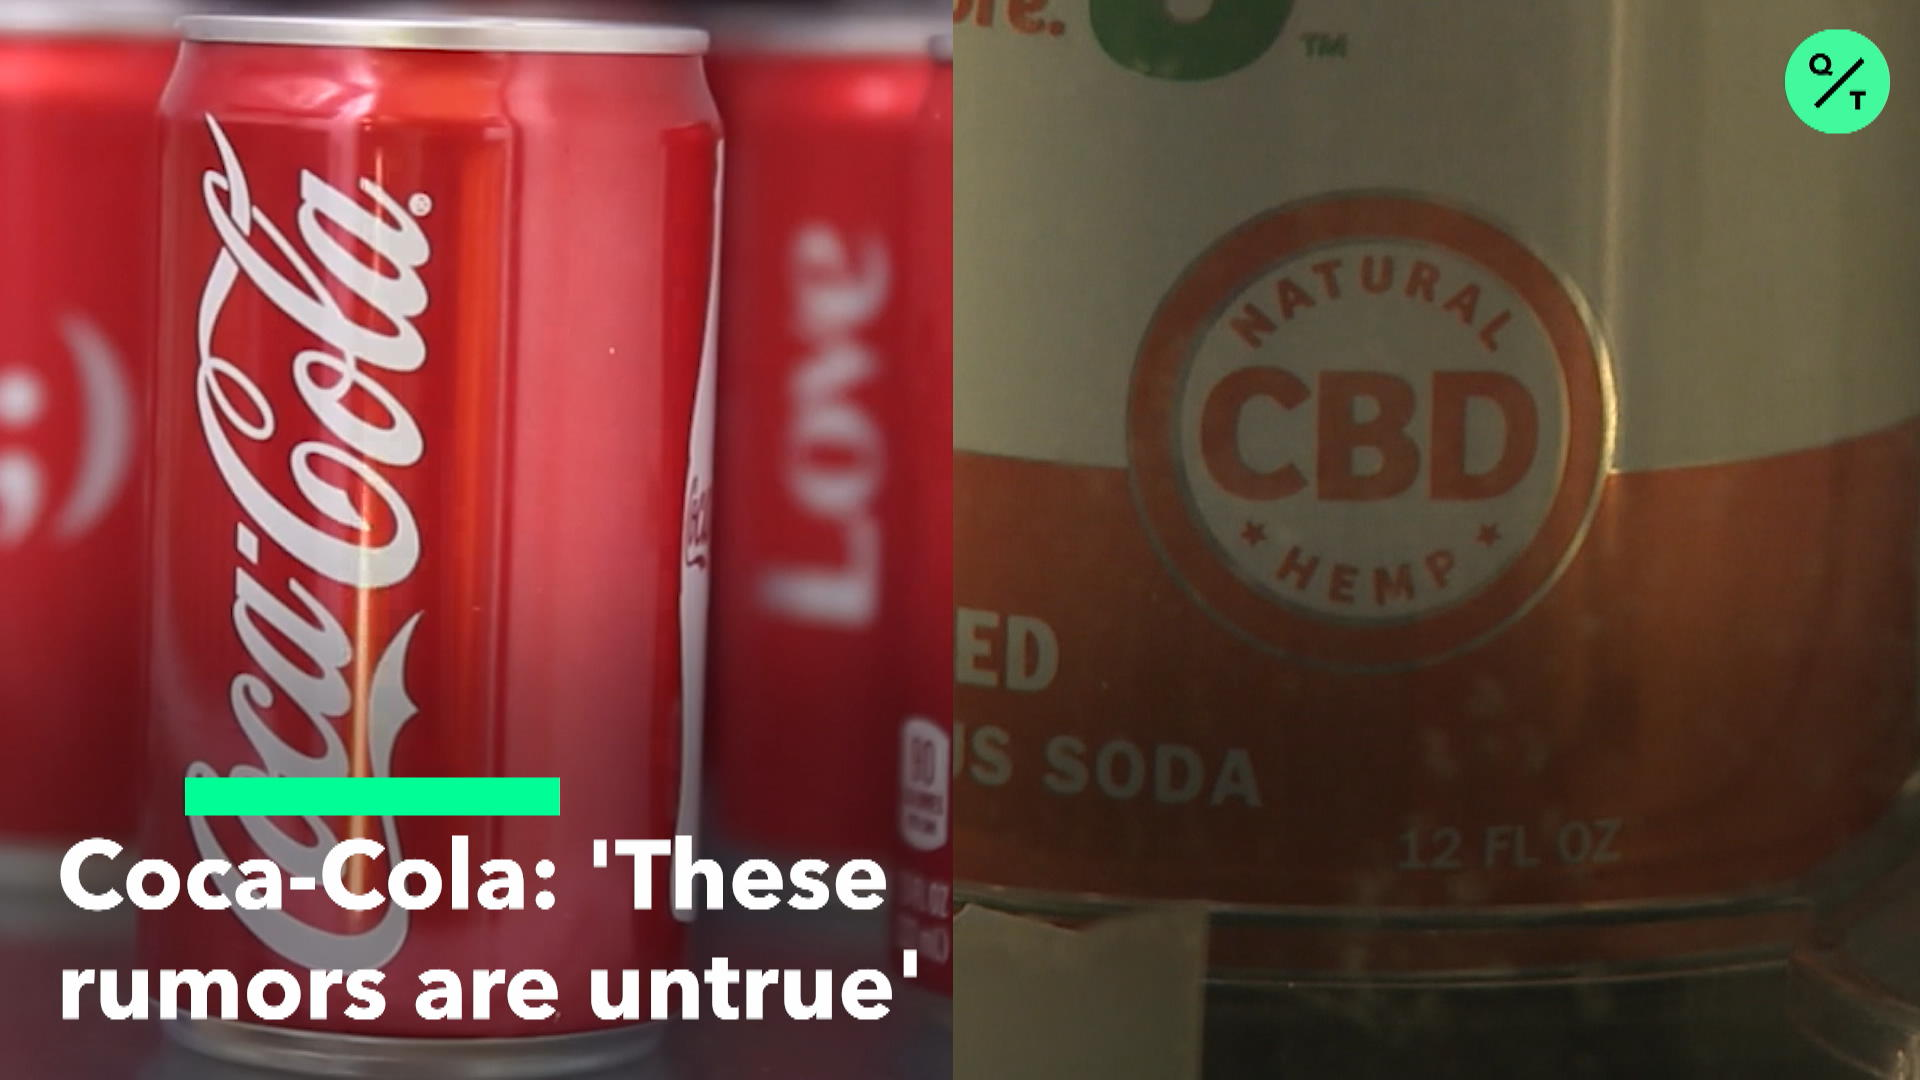Coca-Cola: (157, 34, 696, 1065)
